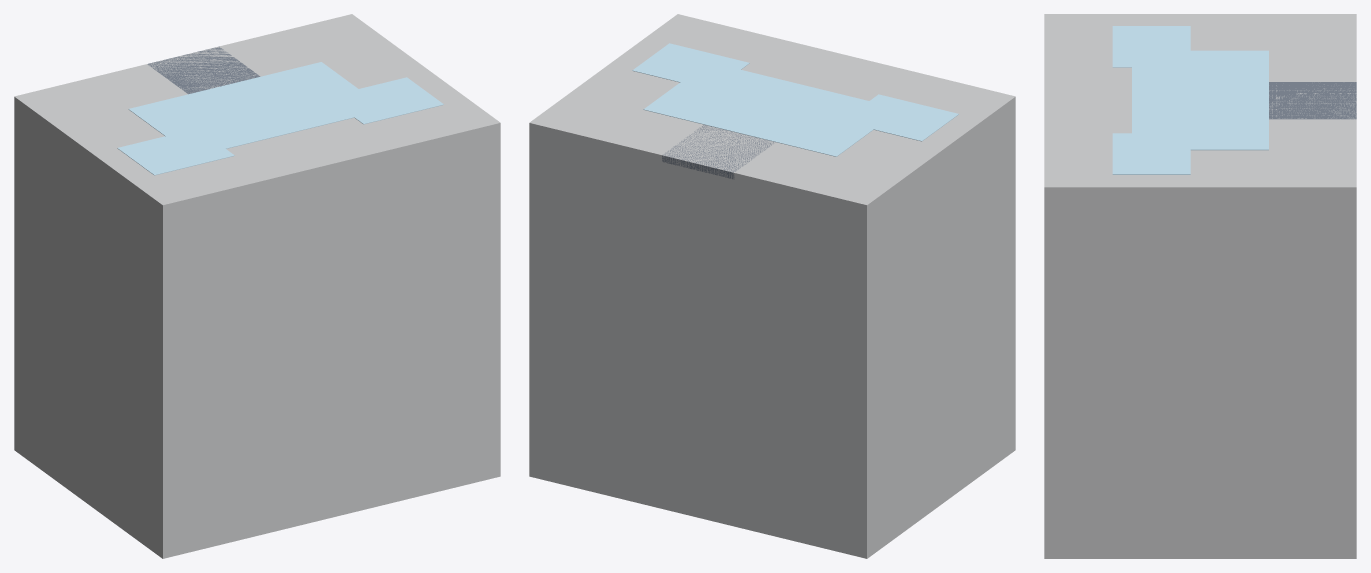
Rendered from small_building_exterior.glb.
3 views of the same model, side by side, from view 1: azimuth 30°, elevation 25°; view 2: azimuth 150°, elevation 25°; view 3: azimuth 270°, elevation 25° (orthographic). The views are drawn at different scales.
Parts seen in each view (by area): view 1: mass_0, front_glass_1, door_2, window_r_4, window_l_3; view 2: mass_0, front_glass_1, window_l_3, door_2, window_r_4; view 3: mass_0, front_glass_1, door_2, window_r_4, window_l_3.
Part boxes in pixels (x1,y1,x2,y2): mass_0: (14,14,500,558); front_glass_1: (128,62,385,156); door_2: (147,46,260,94); window_r_4: (327,77,443,124); window_l_3: (117,128,234,175); mass_0: (529,14,1015,558); front_glass_1: (643,62,900,156); window_l_3: (842,94,958,141); door_2: (662,125,775,179); window_r_4: (632,43,749,82); mass_0: (1044,14,1356,558); front_glass_1: (1132,50,1268,150); door_2: (1269,82,1356,119); window_r_4: (1112,133,1190,174); window_l_3: (1112,26,1190,67).
Bounding box in the file's own units: 4.2 × 4.2 × 3.2.
